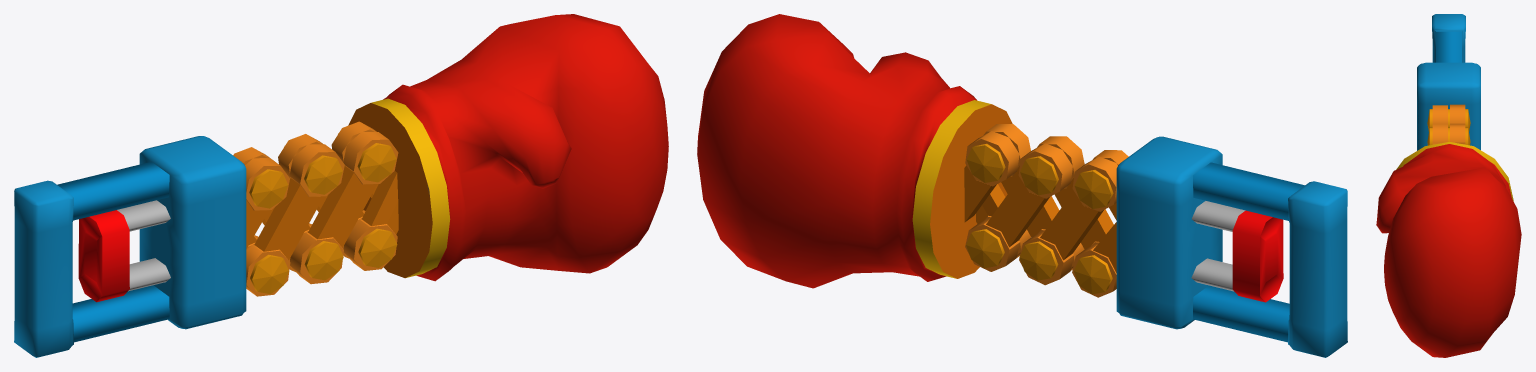
Rendered from BoxingGun.fbx.
3 views of the same model, side by side, from view 1: azimuth 30°, elevation 25°; view 2: azimuth 150°, elevation 25°; view 3: azimuth 270°, elevation 25° (orthographic). The views are drawn at different scales.
Parts seen in each view (by area): view 1: Object002; view 2: Object002; view 3: Object002.
Boxes of the visible parts, bbox=[...] form: Object002: bbox=[14, 14, 668, 357]; Object002: bbox=[697, 14, 1347, 357]; Object002: bbox=[1376, 14, 1521, 357].
Bounding box in the file's own units: 96.2 × 34.53 × 26.78.
